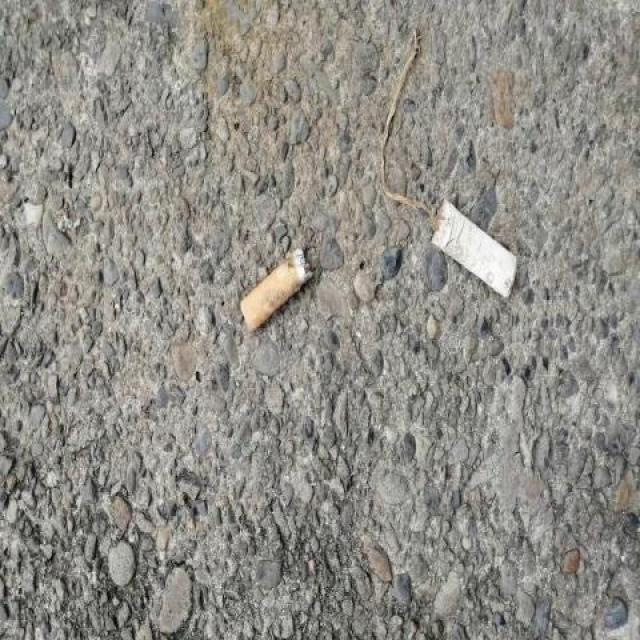non-organic waste: (423, 192, 521, 300), (239, 244, 317, 335)
